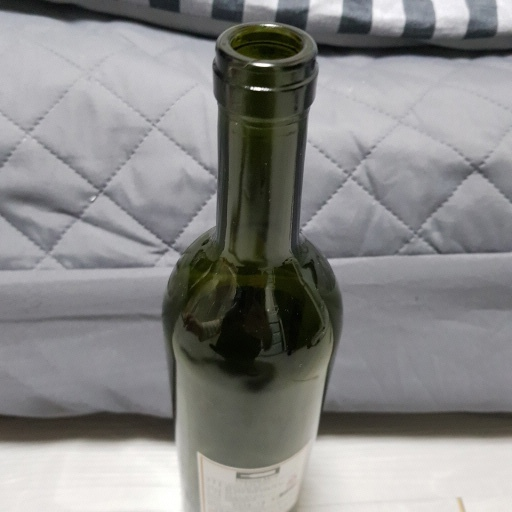Glass_2: (161, 20, 349, 512)
